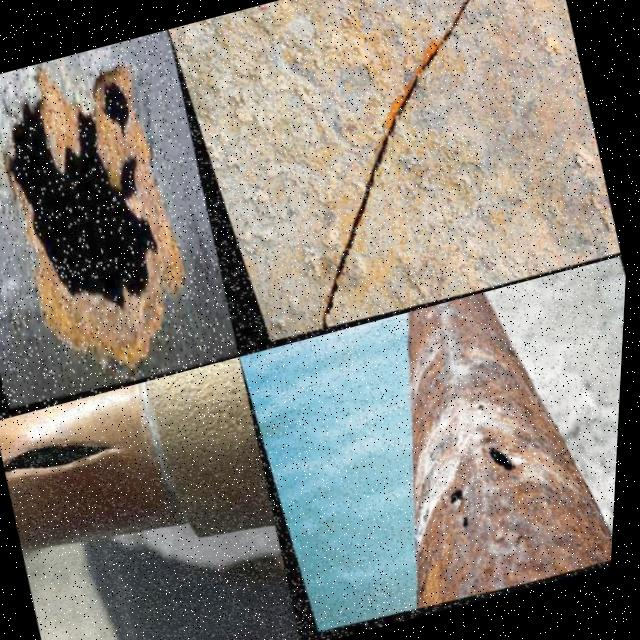crack: (313, 1, 479, 329)
hole: (1, 65, 192, 347), (89, 68, 144, 148), (485, 438, 528, 486), (442, 474, 474, 514), (456, 514, 480, 542), (426, 340, 444, 363), (476, 399, 491, 417)
rupture: (4, 418, 134, 500)
